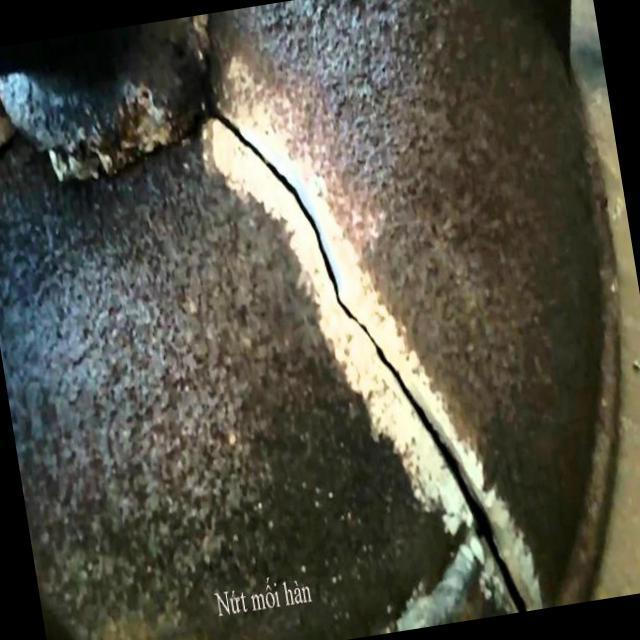defect: (203, 93, 530, 610)
